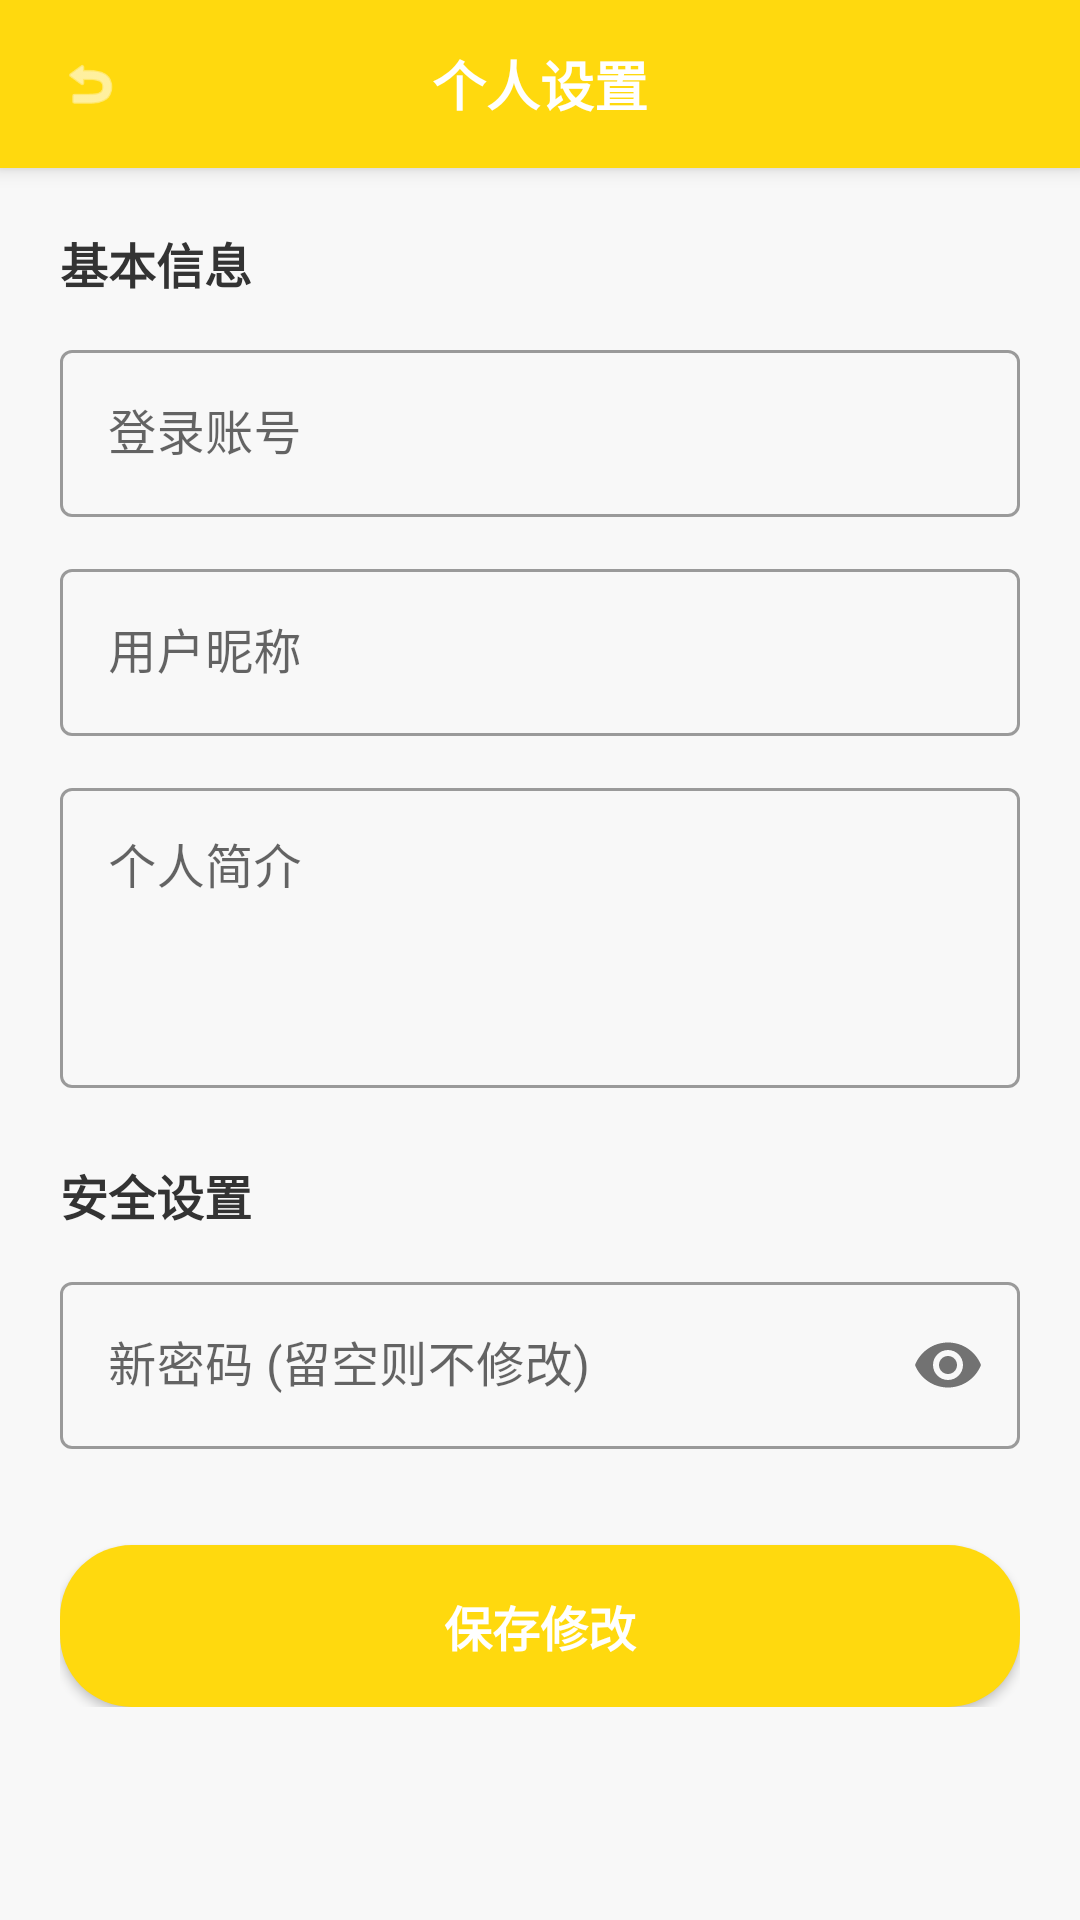

Screen size 1080 x 1920. Icon name, then its box in pixels as box=[x1, y1, x2, y2]:
revert: box=[69, 65, 112, 104]
